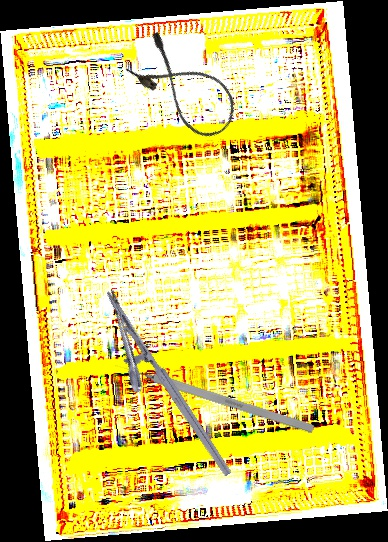Cannula: (121, 27, 248, 147)
Hook Surgical: (113, 359, 316, 435)
Needle Holder: (79, 287, 234, 494)
